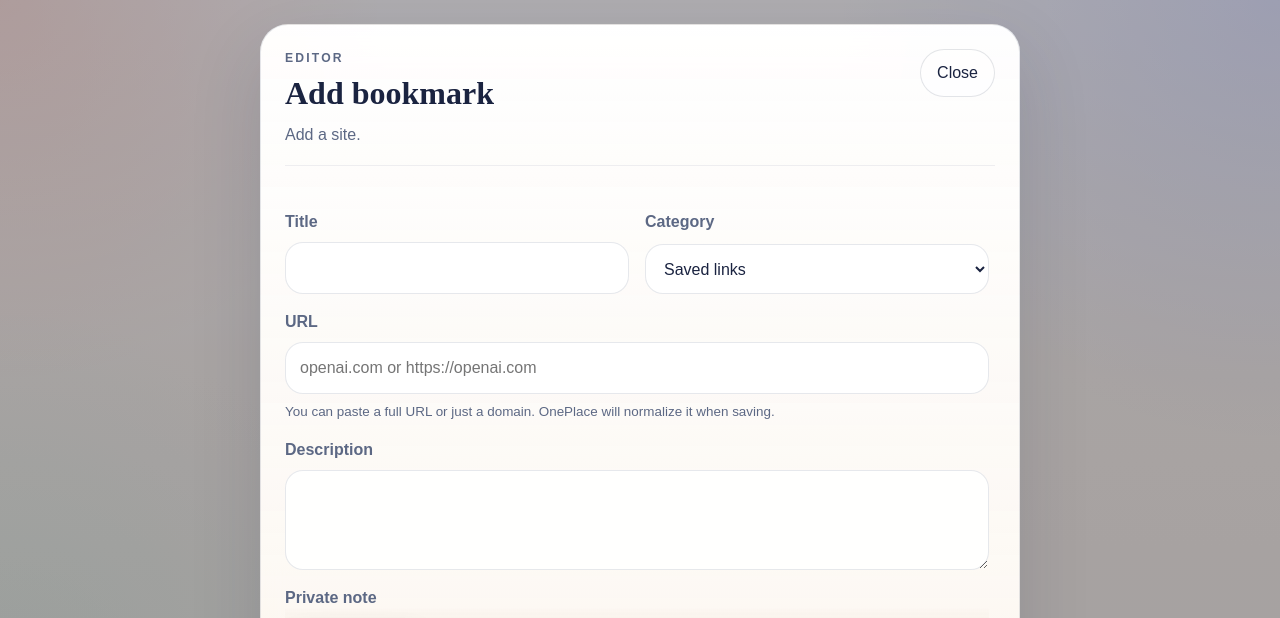
OnePlace app › lets the bookmark dialog switch into new category creation
The width and height of the screenshot is (1280, 618).
Select "Create new category" in the dropdown labelled "Category" at (817, 269), box top-left (645, 244), bottom-right (989, 294)
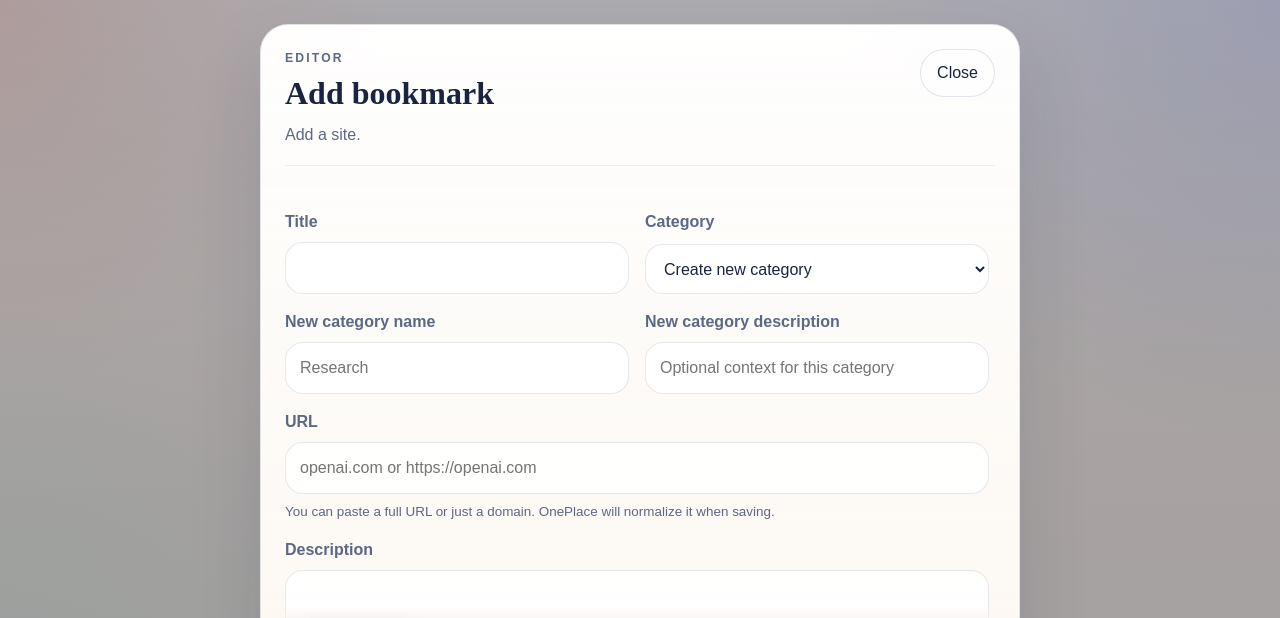
Result: the field labelled "New category name" is shown at top-left (285, 342), bottom-right (629, 394)
Result: the field labelled "New category description" is shown at top-left (645, 342), bottom-right (989, 394)
